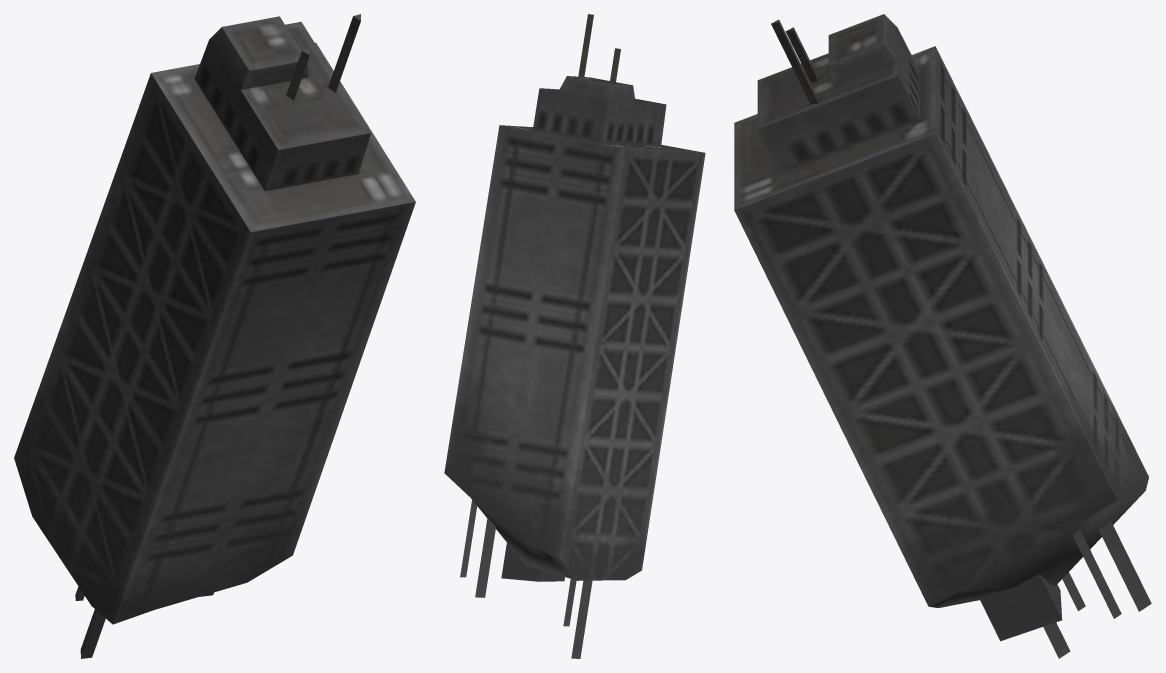
File: skyBuildingAAA_pos_grp (11).fbx
3 renders of one model, left to right at view 1: azimuth 30°, elevation 25°; view 2: azimuth 150°, elevation 25°; view 3: azimuth 270°, elevation 25°, orthographic. The views are drawn at different scales.
Visible parts, largest first — view 1: skyBuildingAAA_geo; view 2: skyBuildingAAA_geo; view 3: skyBuildingAAA_geo.
Part boxes in pixels (<box>): skyBuildingAAA_geo: <box>14,14,415,658</box>; skyBuildingAAA_geo: <box>444,14,705,658</box>; skyBuildingAAA_geo: <box>734,14,1151,658</box>.
Size of the model in its own units: 2.93 by 10.27 by 5.6.
